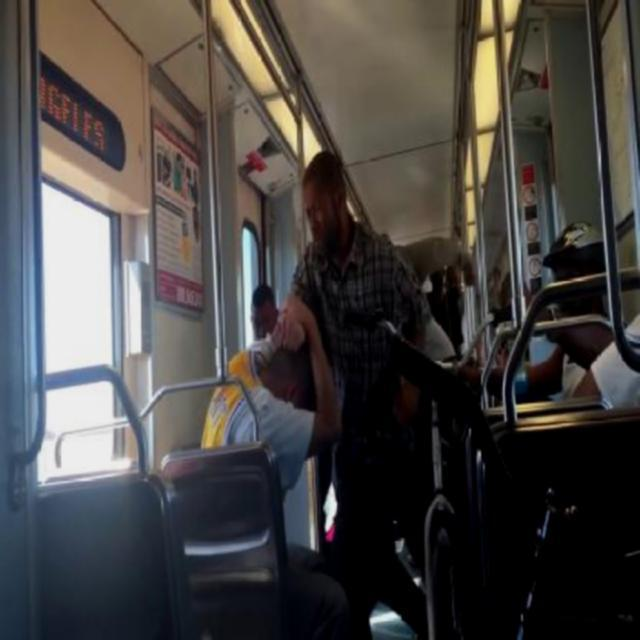fight: (200, 150, 428, 538)
